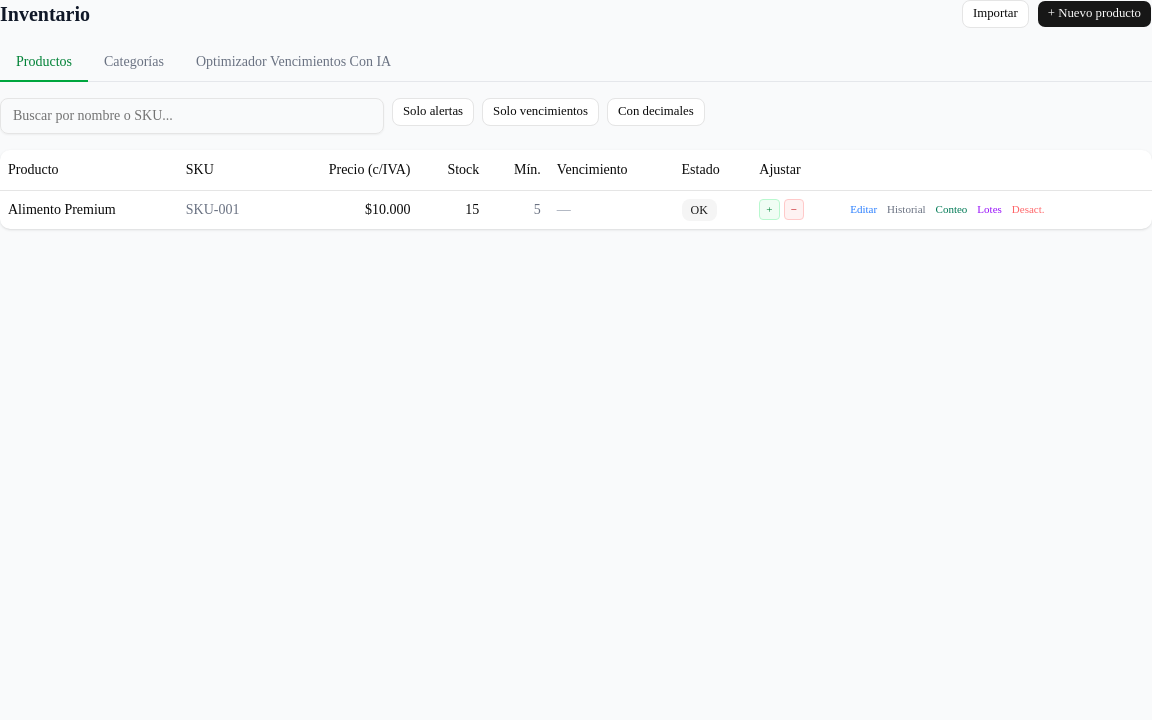
Test case: InventoryPage — formulario de producto › FP-14: editar producto con foto existente preserva imagen_url en el PATCH
Expected: the text "Alimento Premium" is shown, top-left (0, 190), bottom-right (178, 228)
Click the button "Editar".
click(864, 209)  # box top-left (846, 202), bottom-right (881, 217)
(page scrolled)
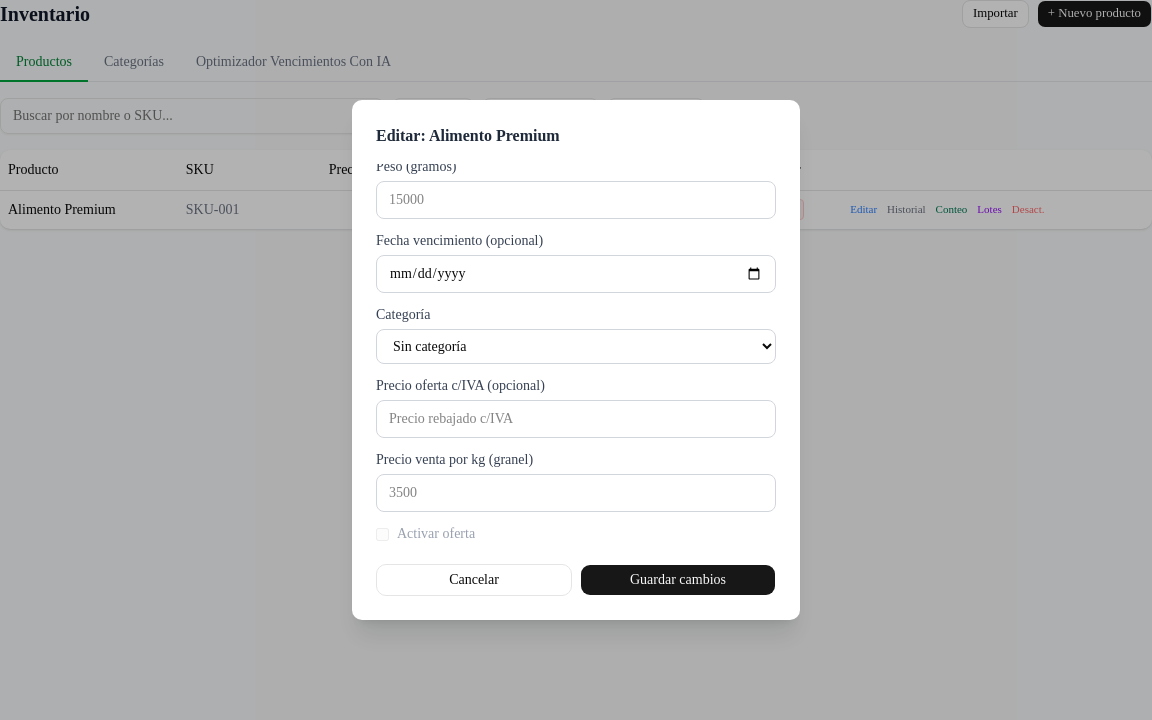
Click the button "Guardar cambios".
click(678, 580)  # box top-left (580, 564), bottom-right (776, 596)
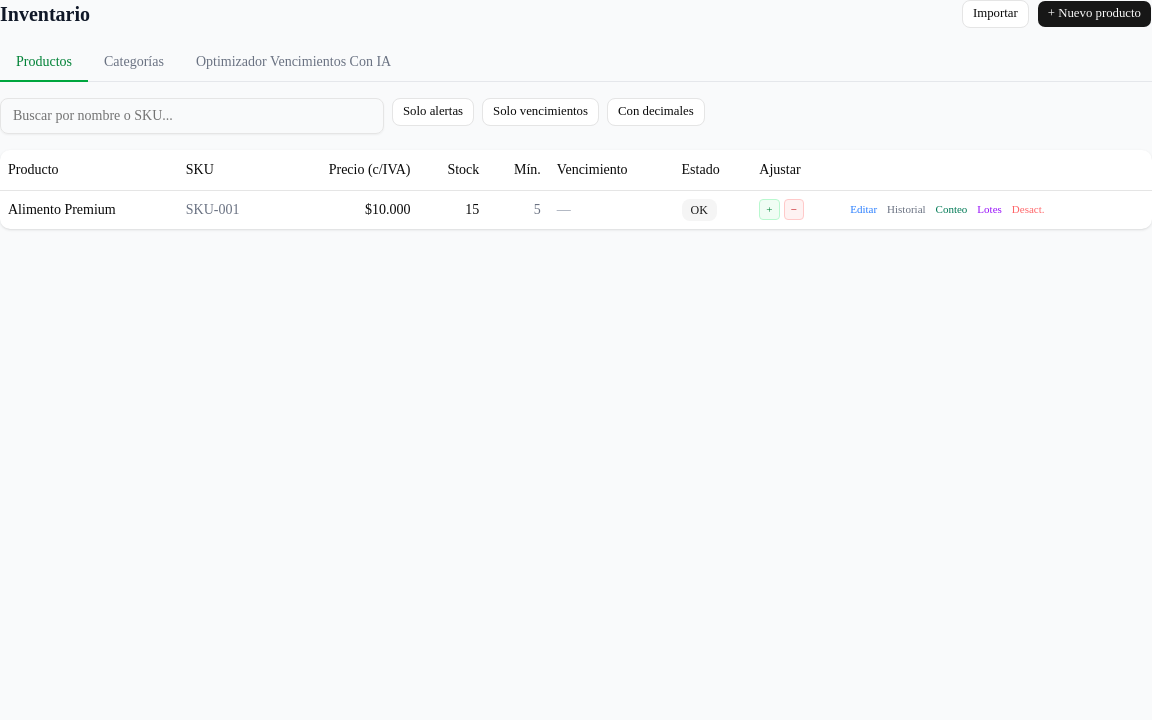
Now the heading "Editar: Alimento Premium" is gone
